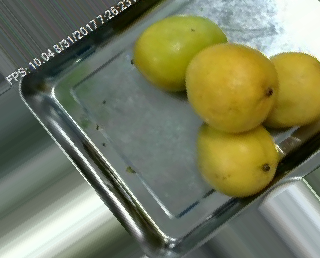Mango: (184, 41, 279, 132), (131, 13, 227, 91), (194, 112, 281, 196), (259, 50, 320, 127)
